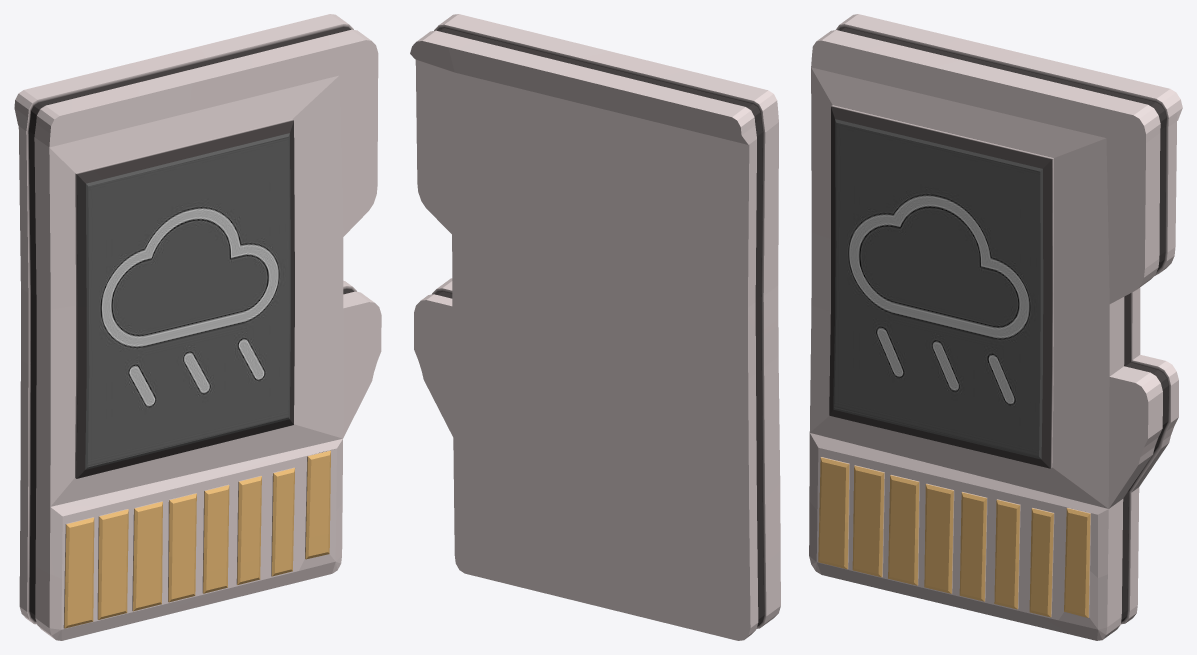
Rendered from data-chip.glb.
3 renders of one model, left to right at view 1: azimuth 30°, elevation 25°; view 2: azimuth 150°, elevation 25°; view 3: azimuth 330°, elevation 25°, orthographic.
Parts seen in each view (by area): view 1: data-card; view 2: data-card; view 3: data-card.
Boxes of the visible parts, <box> form: data-card: <box>14,14,381,640</box>; data-card: <box>410,14,780,640</box>; data-card: <box>809,14,1182,640</box>.
Bounding box in the file's own units: 2.97 × 4.48 × 0.6805.
1 material, 1 textured.
